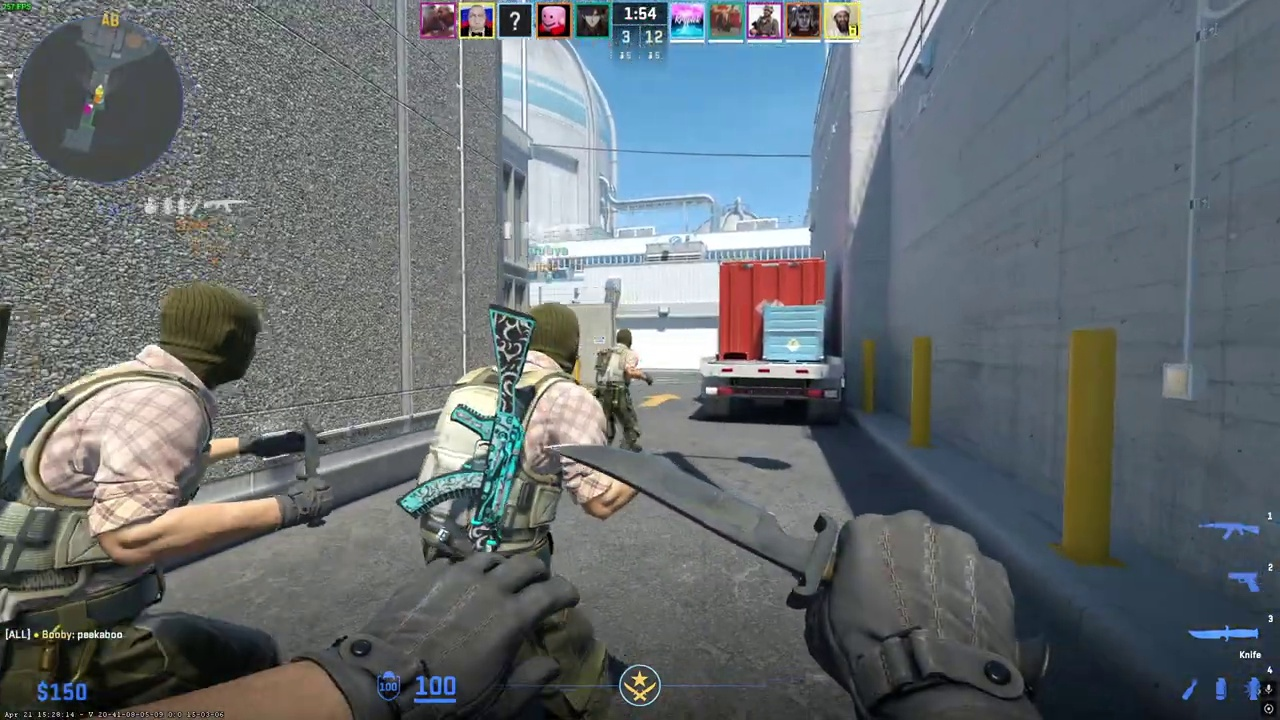Terrorist: (0, 278, 294, 711), (415, 300, 603, 591), (594, 327, 648, 454)
